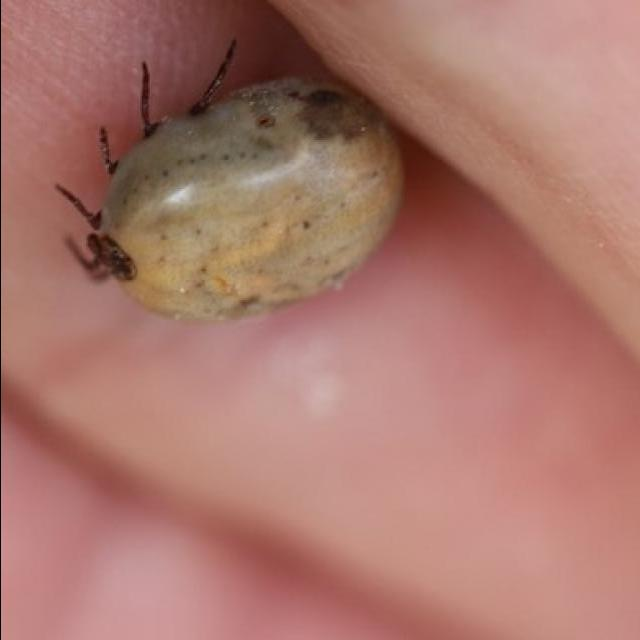Dermacentor Reticulatus-F-Fed: (56, 40, 408, 325)
